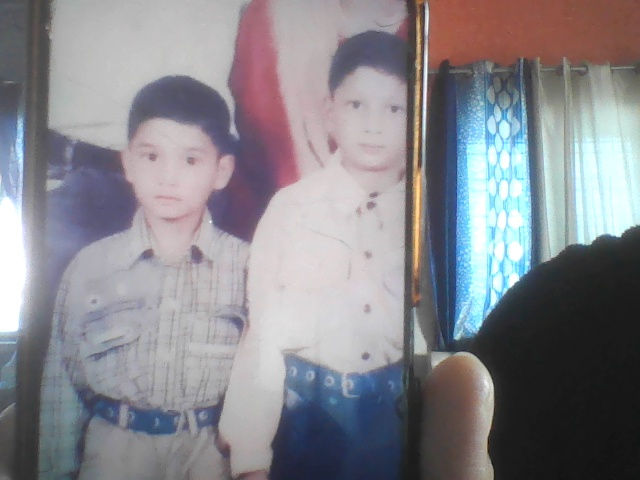fake: (123, 81, 225, 225)
